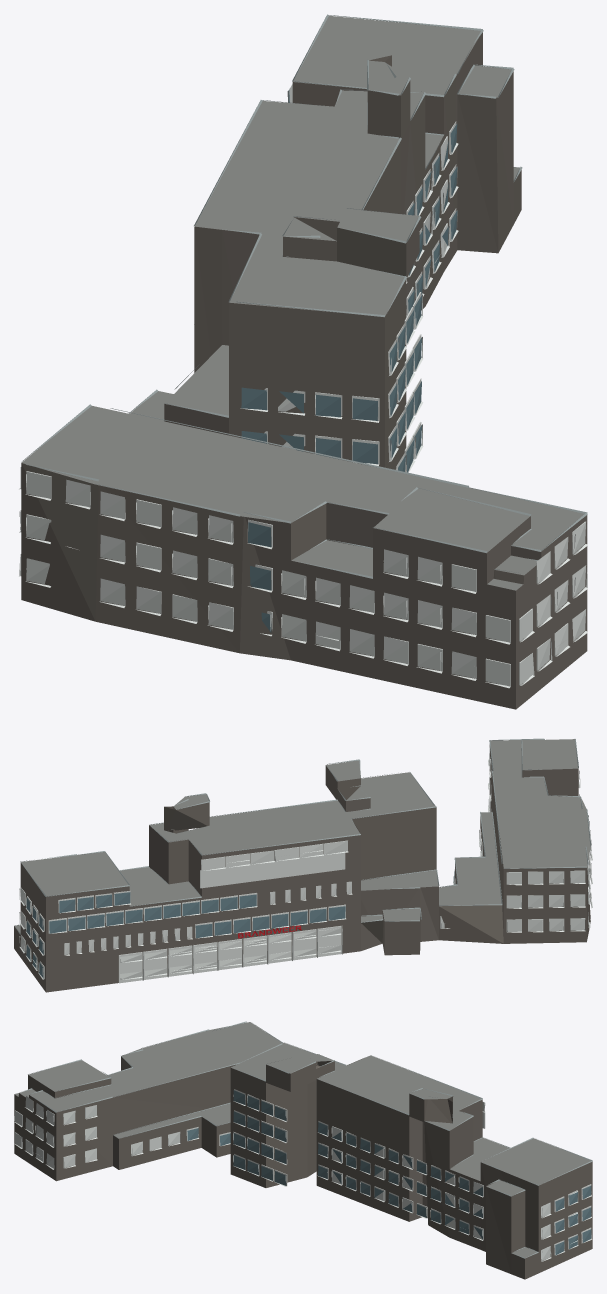
Rendered from fire-station-nico.lod1.glb.
3 views of the same model, one above another, from view 1: azimuth 30°, elevation 25°; view 2: azimuth 150°, elevation 25°; view 3: azimuth 270°, elevation 25° (orthographic). The views are drawn at different scales.
Parts seen in each view (by area): view 1: fire-station-nico; view 2: fire-station-nico; view 3: fire-station-nico.
Part boxes in pixels (x1=…): fire-station-nico: x1=19, y1=14, x2=587, y2=709; fire-station-nico: x1=14, y1=738, x2=592, y2=992; fire-station-nico: x1=14, y1=1021, x2=592, y2=1279.
Size of the model in its own units: 76.11 by 24.14 by 98.2.
